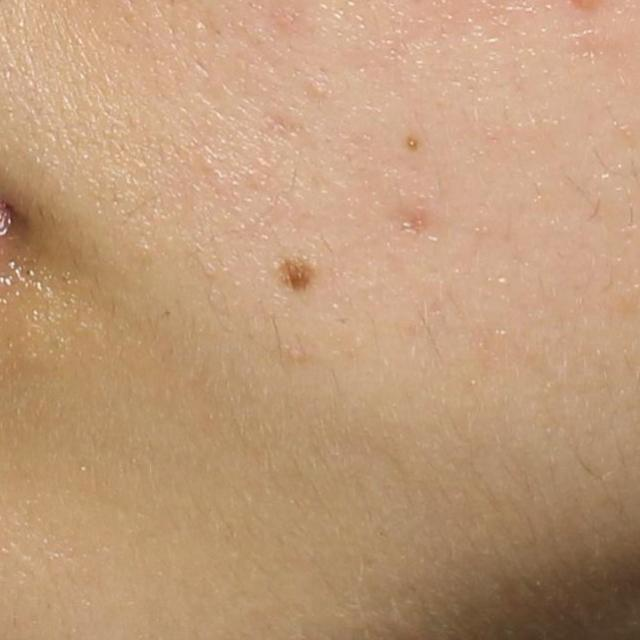blackhead: (407, 139, 417, 149)
